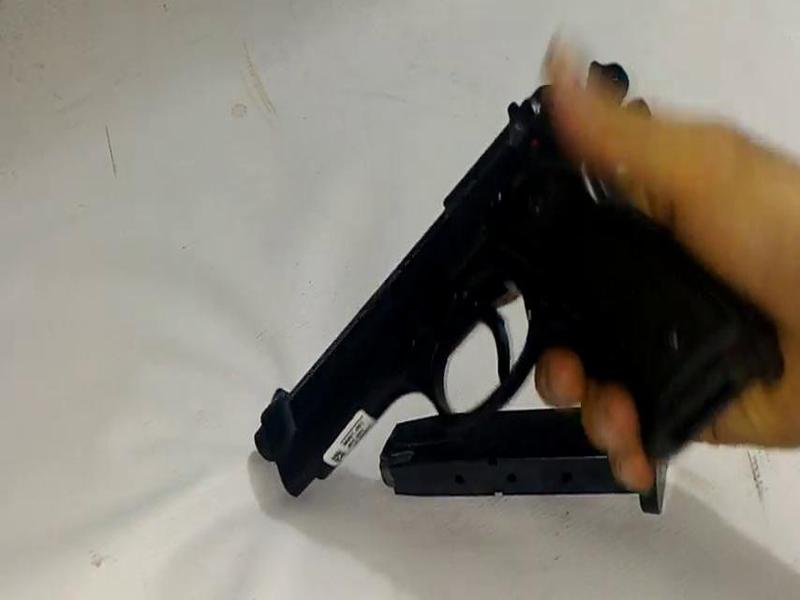Pistola: (216, 53, 777, 484)
